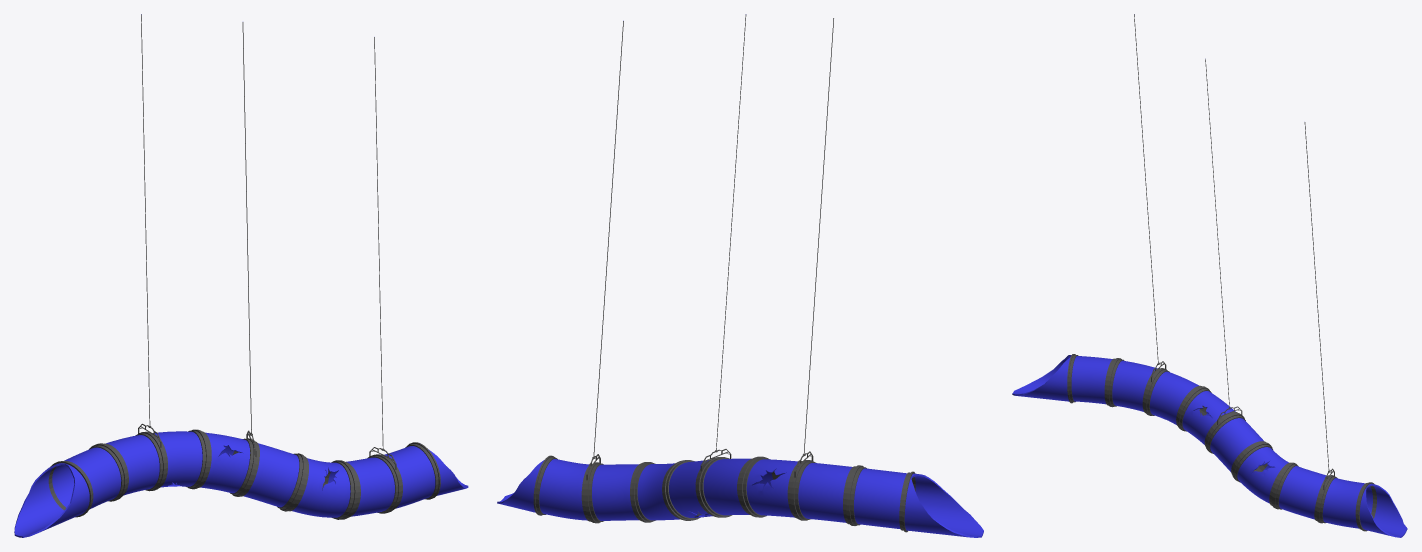
File: Tunel broken.fbx
3 views of the same model, side by side, from view 1: azimuth 30°, elevation 25°; view 2: azimuth 150°, elevation 25°; view 3: azimuth 330°, elevation 25° (orthographic). The views are drawn at different scales.
Parts seen in each view (by area): view 1: Tunnel; view 2: Tunnel; view 3: Tunnel.
Boxes of the visible parts, box(x1,y1,x2,y2) form: Tunnel: box(14, 14, 468, 537); Tunnel: box(497, 14, 983, 537); Tunnel: box(1012, 14, 1407, 537).
Size of the model in its own units: 74556 by 85606 by 13494.
